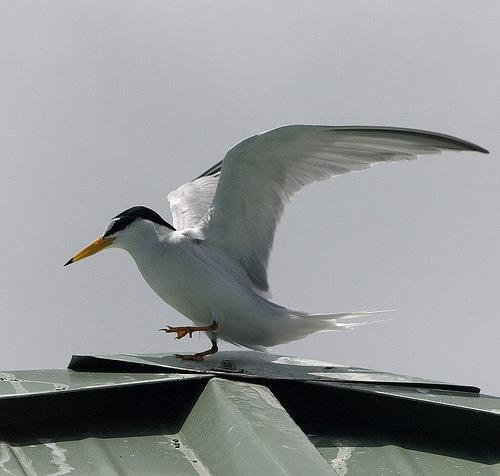bird: (64, 123, 492, 367)
